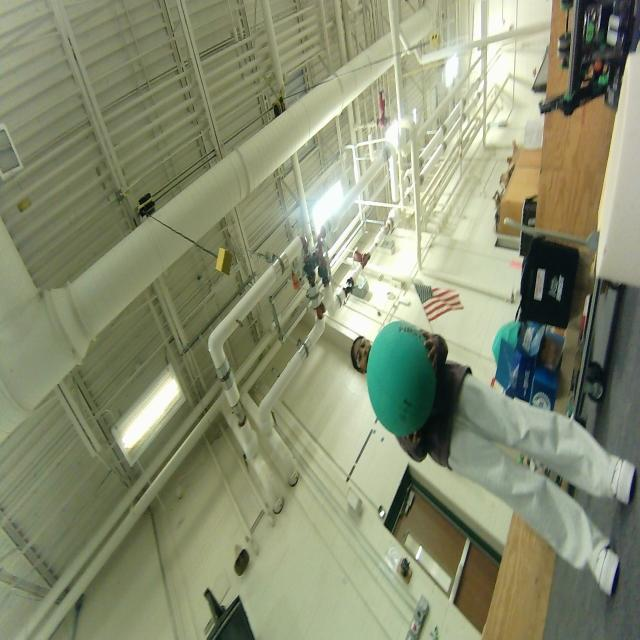algae: (364, 319, 441, 440)
